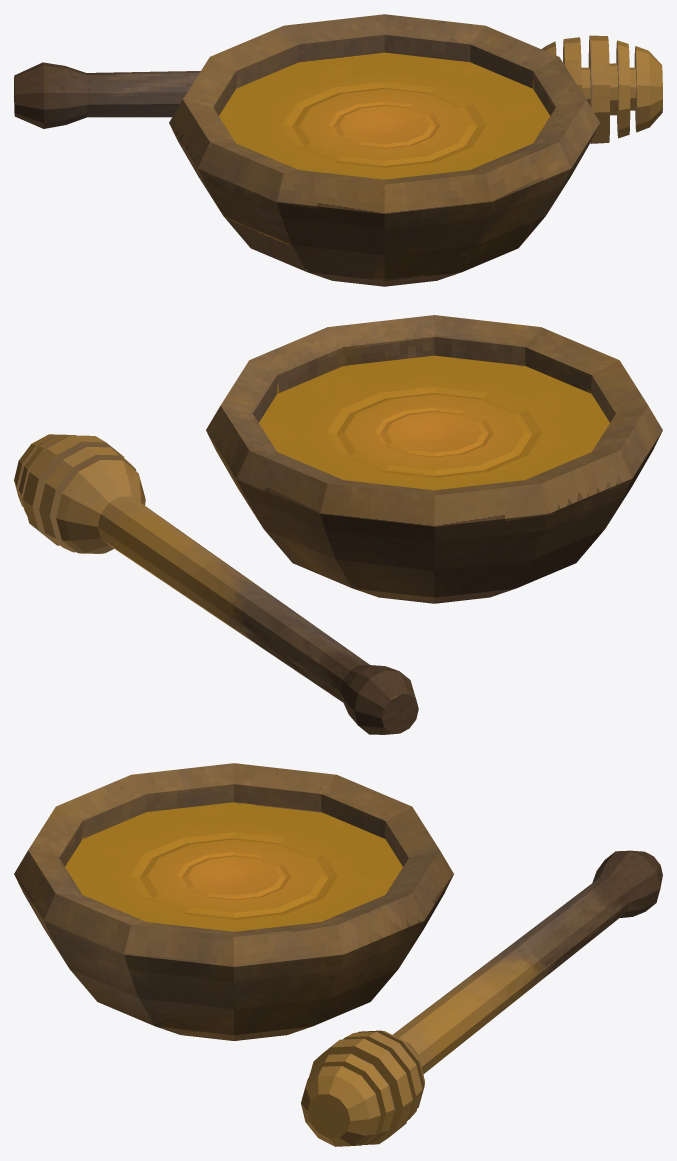
Rendered from honey.glb.
3 views of the same model, one above another, from view 1: azimuth 30°, elevation 25°; view 2: azimuth 150°, elevation 25°; view 3: azimuth 270°, elevation 25° (orthographic). The views are drawn at different scales.
Parts seen in each view (by area): view 1: Cylinder.006, Cylinder.007; view 2: Cylinder.006, Cylinder.007; view 3: Cylinder.006, Cylinder.007.
Part boxes in pixels (box(x1,y1,x2,y2)): Cylinder.006: box(169, 14, 599, 286); Cylinder.007: box(14, 35, 662, 143); Cylinder.006: box(206, 315, 662, 603); Cylinder.007: box(14, 434, 418, 734); Cylinder.006: box(14, 763, 453, 1040); Cylinder.007: box(301, 850, 662, 1146).
Size of the model in its own units: 0.3877 by 0.1136 by 0.41.
Materials: 2 (2 with a texture image).
